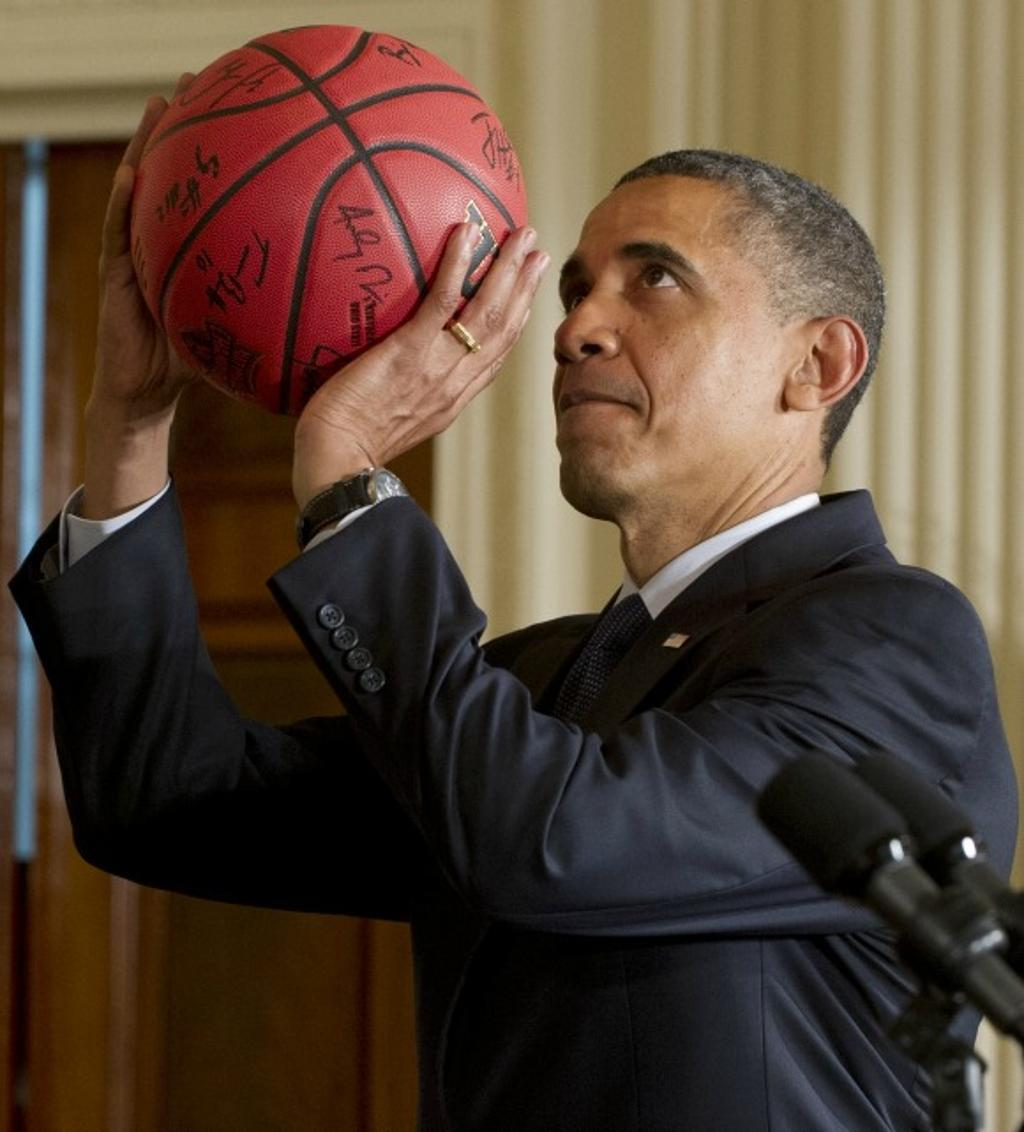face: (552, 169, 797, 496)
